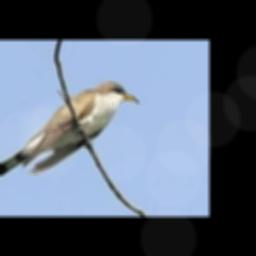Cuckoo: (0, 82, 138, 190)
